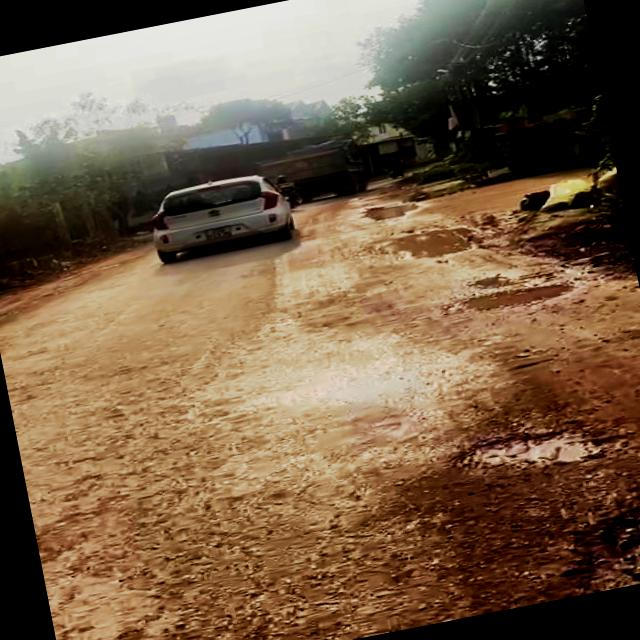pothole: (513, 471, 640, 604), (444, 413, 614, 490), (452, 267, 598, 327), (366, 220, 488, 273), (361, 197, 426, 224)
